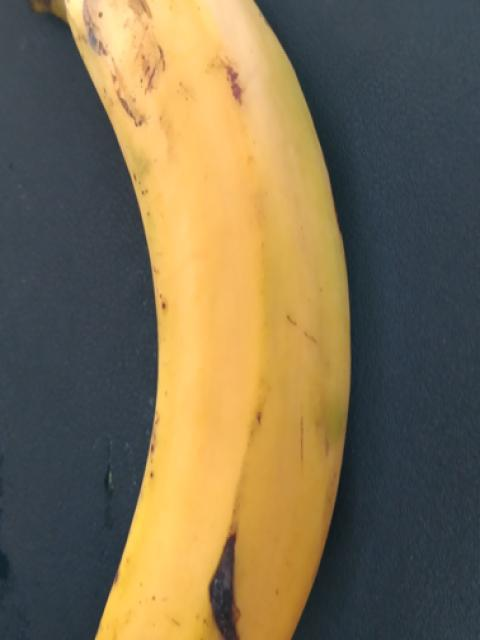ripe: (26, 0, 370, 639)
